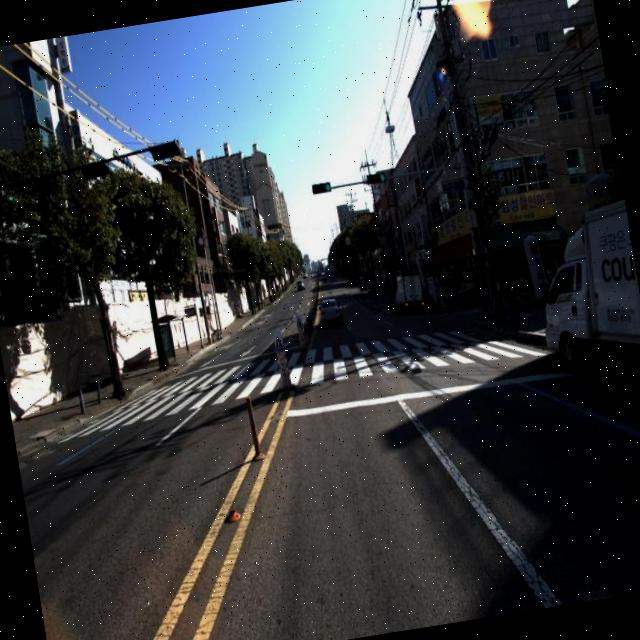crosswalk: (56, 324, 549, 445)
